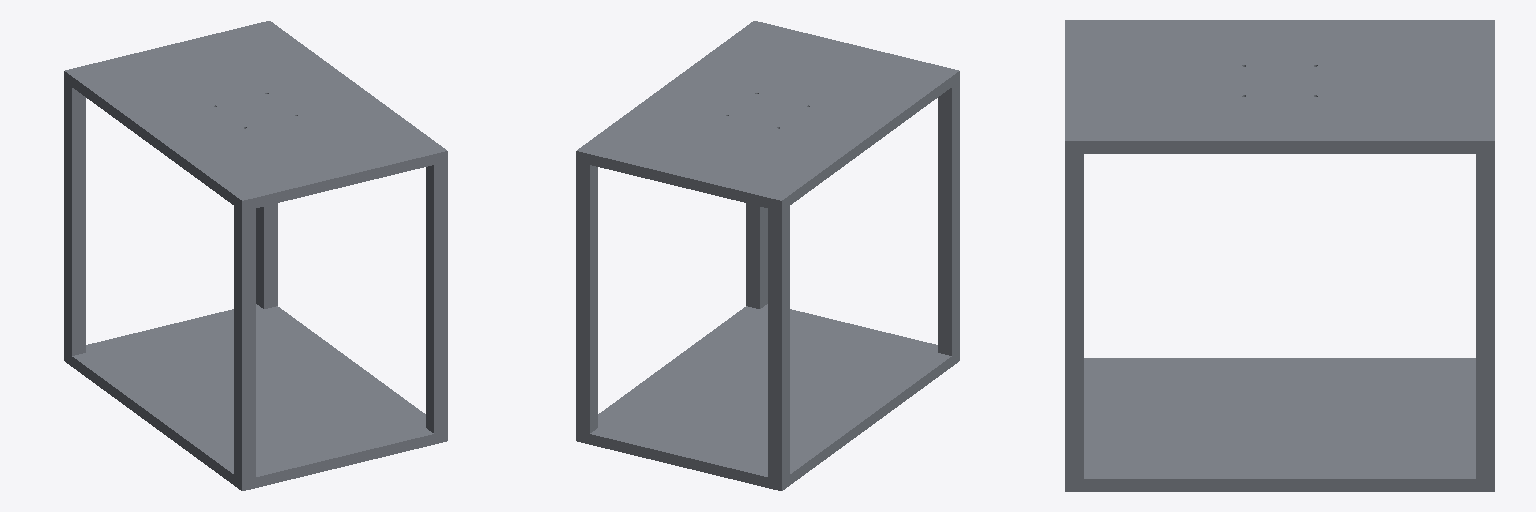
robot.urdf — a0509_stand:
<?xml version="1.0"?>
<!--
  a0509_stand.urdf
  바탕화면 A0509_Stand.step → 변환. 단일 바디(링크 1개).
  - 원본 STEP 단위 mm → 메쉬 좌표 자체를 m로 스케일 (scale="1 1 1")
  - 원점: 로봇 장착면(윗면) 중심 (x:-0.3~0.3, y:-0.45~0.45, z:-0.81~0)
    즉 원점이 로봇 베이스 마운트 포인트 — 스폰 시 z만 지정하면 그 높이가 곧 로봇 장착 높이가 됨.
  - 치수 0.60 x 0.90 x 0.81 m (삼각형 1,016면)
  - 시각(visual): 원본 메쉬. 충돌(collision): 박스로 단순화(치수=메쉬 바운딩박스)
  - 정적 구조물이므로 스폰 시 AssetOptions.fix_base_link=True 권장
-->
<robot name="a0509_stand">

  <material name="stand_gray"> <color rgba="0.55 0.57 0.60 1.0"/> </material>

  <link name="base_link">
    <inertial>
      <origin xyz="0 0 -0.405"/>
      <mass value="40.0"/>
      <!-- 박스 관성 (m=40, 0.60x0.90x0.81) -->
      <inertia ixx="4.887" ixy="0" ixz="0" iyy="3.387" iyz="0" izz="3.900"/>
    </inertial>

    <visual>
      <origin xyz="0 0 0"/>
      <geometry><mesh filename="meshes/a0509_stand.stl" scale="1 1 1"/></geometry>
      <material name="stand_gray"/>
    </visual>

    <collision>
      <origin xyz="0 0 -0.405"/>
      <geometry><box size="0.60 0.90 0.81"/></geometry>
    </collision>
  </link>
</robot>

--- Render facts (derived) ---
Views: 3 orthographic renders of the robot side by side, from view 1: azimuth 30°, elevation 25°; view 2: azimuth 150°, elevation 25°; view 3: azimuth 270°, elevation 25°.
Model a0509_stand with 1 links and 0 joints (none), rooted at base_link, posed every joint at zero.
Links seen in each view (by area): view 1: base_link; view 2: base_link; view 3: base_link.
Boxes of the visible links, <box> form: base_link: <box>64,21,447,490</box>; base_link: <box>576,21,959,490</box>; base_link: <box>1065,20,1494,491</box>.
Size in the robot's own frame: 0.6 by 0.9 by 0.81 metres.
1 mesh visuals loaded from 1 distinct referenced files (1 binary STL).
